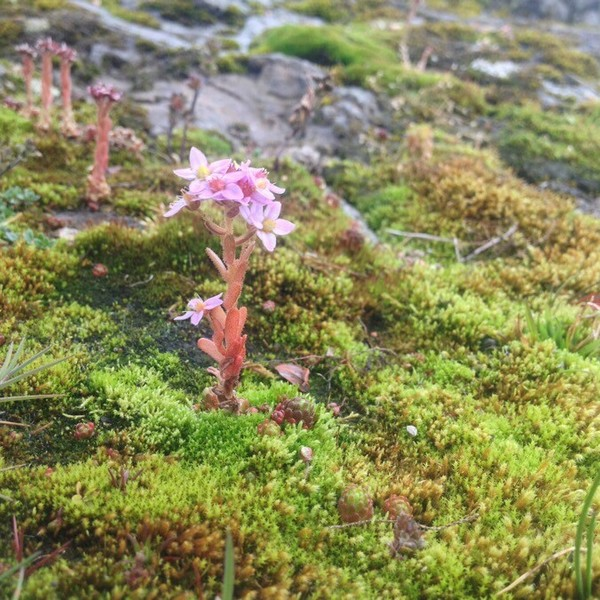obstacle: (312, 237, 562, 547), (78, 399, 288, 576), (163, 147, 284, 385)
